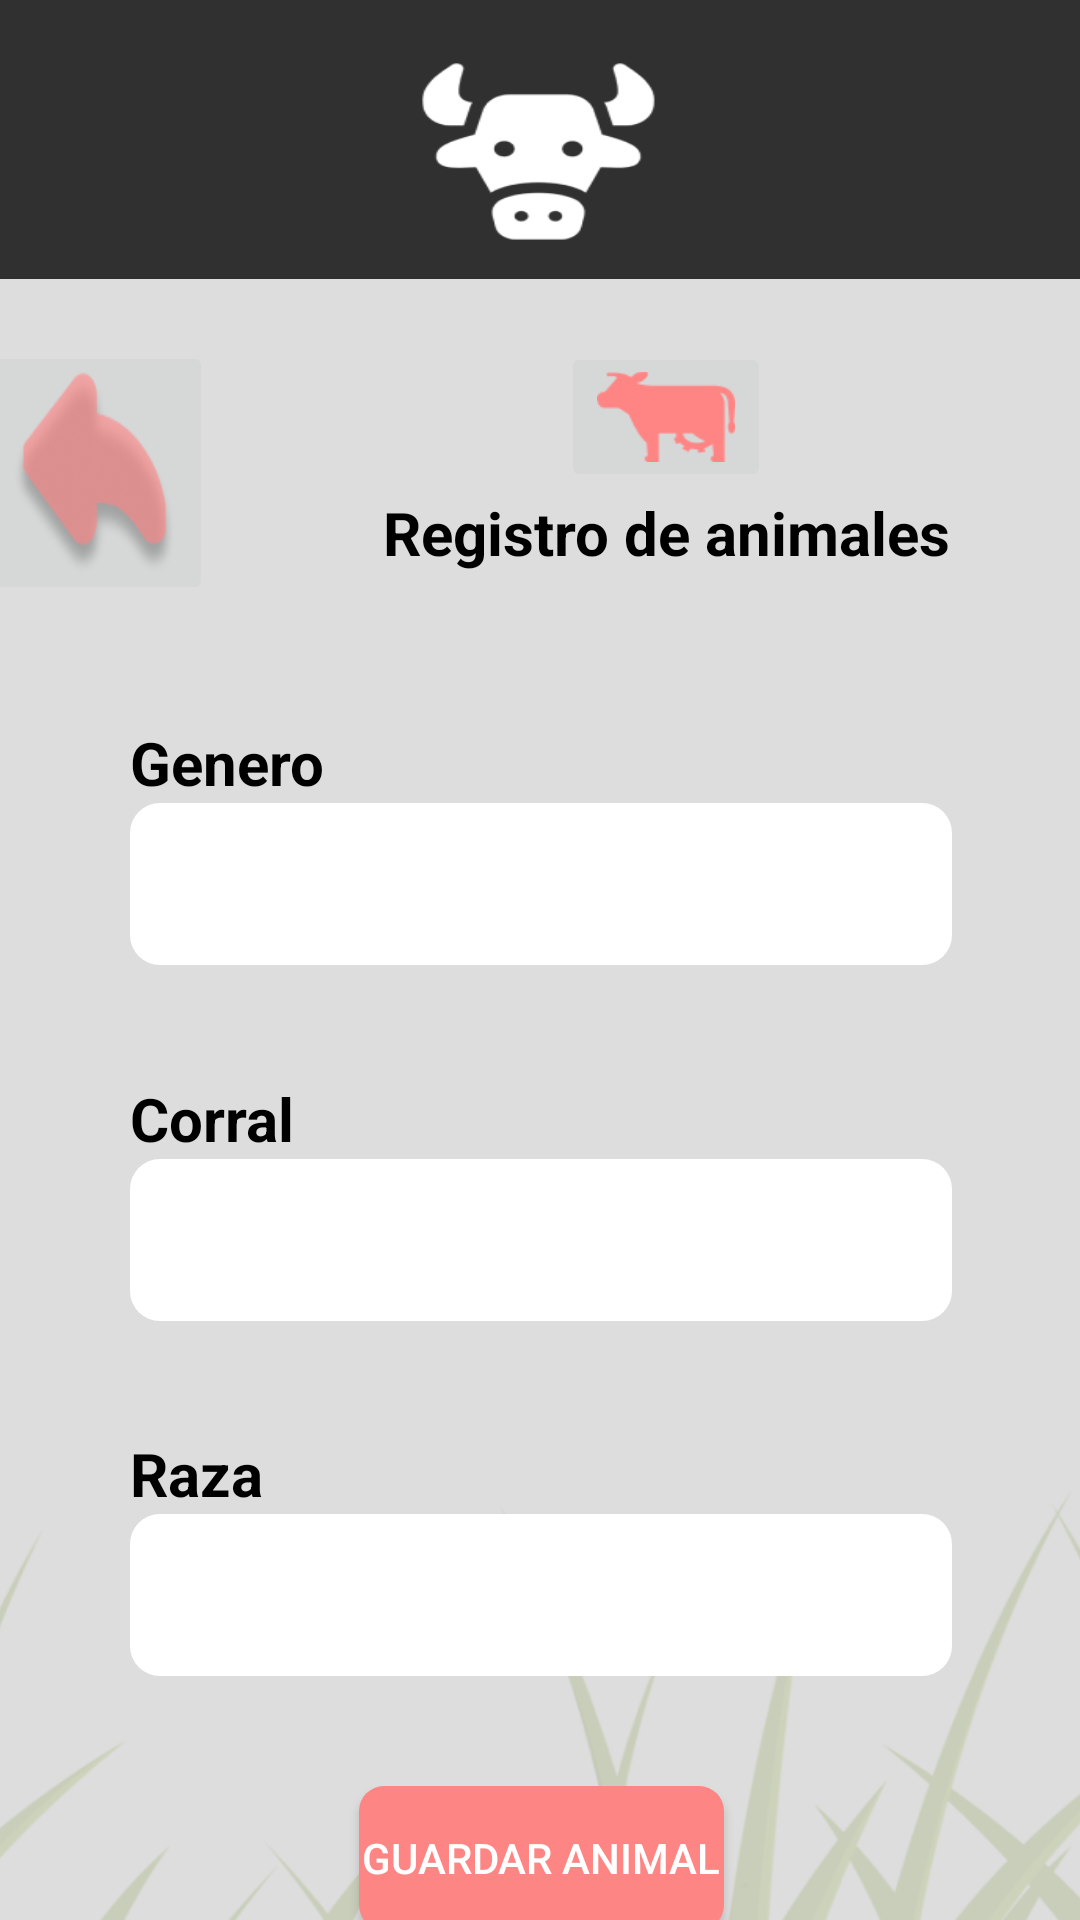

Where to tap for icons on this 1080w x 1920h app screen, as point (x, y):
cow: point (666, 417)
